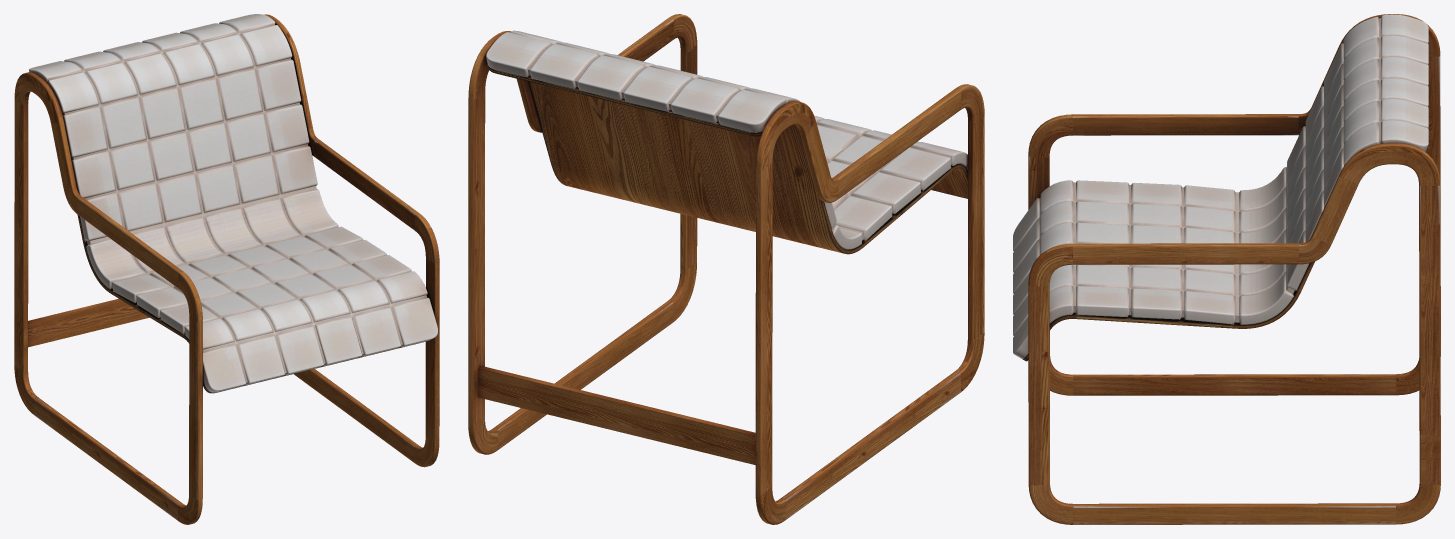
File: armchair.glb
The picture shows the model from 3 angles, left to right: view 1: azimuth 30°, elevation 25°; view 2: azimuth 150°, elevation 25°; view 3: azimuth 270°, elevation 25°; orthographic projection. The views are drawn at different scales.
Visible parts, largest first — view 1: Object001_Material #5_0_4, 01_Wood_Material #3_0_0, 02_Base_Material #2_0_2; view 2: 01_Wood_Material #3_0_0, 02_Base_Material #2_0_2, Object001_Material #5_0_4; view 3: Object001_Material #5_0_4, 01_Wood_Material #3_0_0, 02_Base_Material #2_0_2.
Part boxes in pixels (x1,y1,x2,y2): Object001_Material #5_0_4: [29, 14, 437, 392]; 01_Wood_Material #3_0_0: [14, 14, 439, 524]; 02_Base_Material #2_0_2: [77, 214, 427, 393]; 01_Wood_Material #3_0_0: [468, 14, 984, 524]; 02_Base_Material #2_0_2: [488, 65, 967, 254]; Object001_Material #5_0_4: [486, 30, 967, 249]; Object001_Material #5_0_4: [1013, 14, 1428, 358]; 01_Wood_Material #3_0_0: [1028, 14, 1440, 524]; 02_Base_Material #2_0_2: [1022, 261, 1314, 361].
Size of the model in its own units: 0.5891 by 0.7962 by 0.8064.
3 materials, 3 textured.
